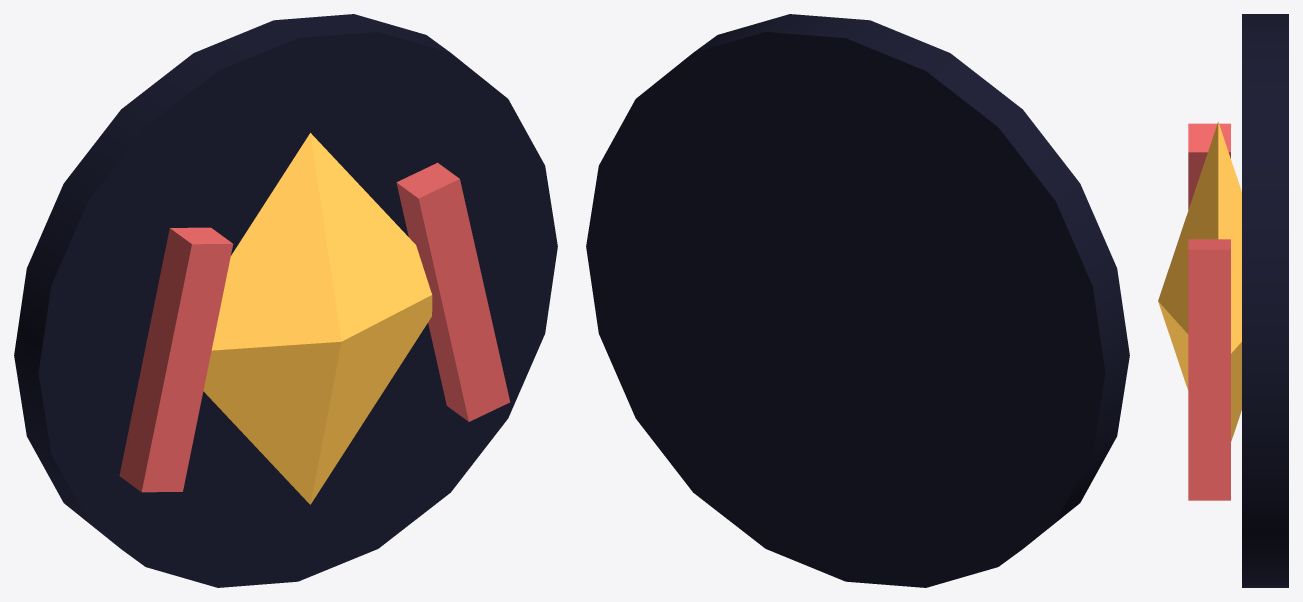
File: stage-mark.glb
The picture shows the model from 3 angles, left to right: view 1: azimuth 30°, elevation 25°; view 2: azimuth 150°, elevation 25°; view 3: azimuth 270°, elevation 25°; orthographic projection. The views are drawn at different scales.
Visible parts, largest first — view 1: badge_back, finale_star, left_baton, right_baton; view 2: badge_back; view 3: badge_back, right_baton, finale_star, left_baton.
Boxes of the visible parts, <box> form: badge_back: <box>14,14,557,587</box>; finale_star: <box>203,133,432,504</box>; left_baton: <box>119,227,233,492</box>; right_baton: <box>396,162,509,421</box>; badge_back: <box>586,14,1129,587</box>; badge_back: <box>1242,14,1288,587</box>; right_baton: <box>1188,239,1230,500</box>; finale_star: <box>1158,122,1241,441</box>; left_baton: <box>1188,123,1230,209</box>.
Bounding box in the file's own units: 2.7 × 2.7 × 0.6112.
